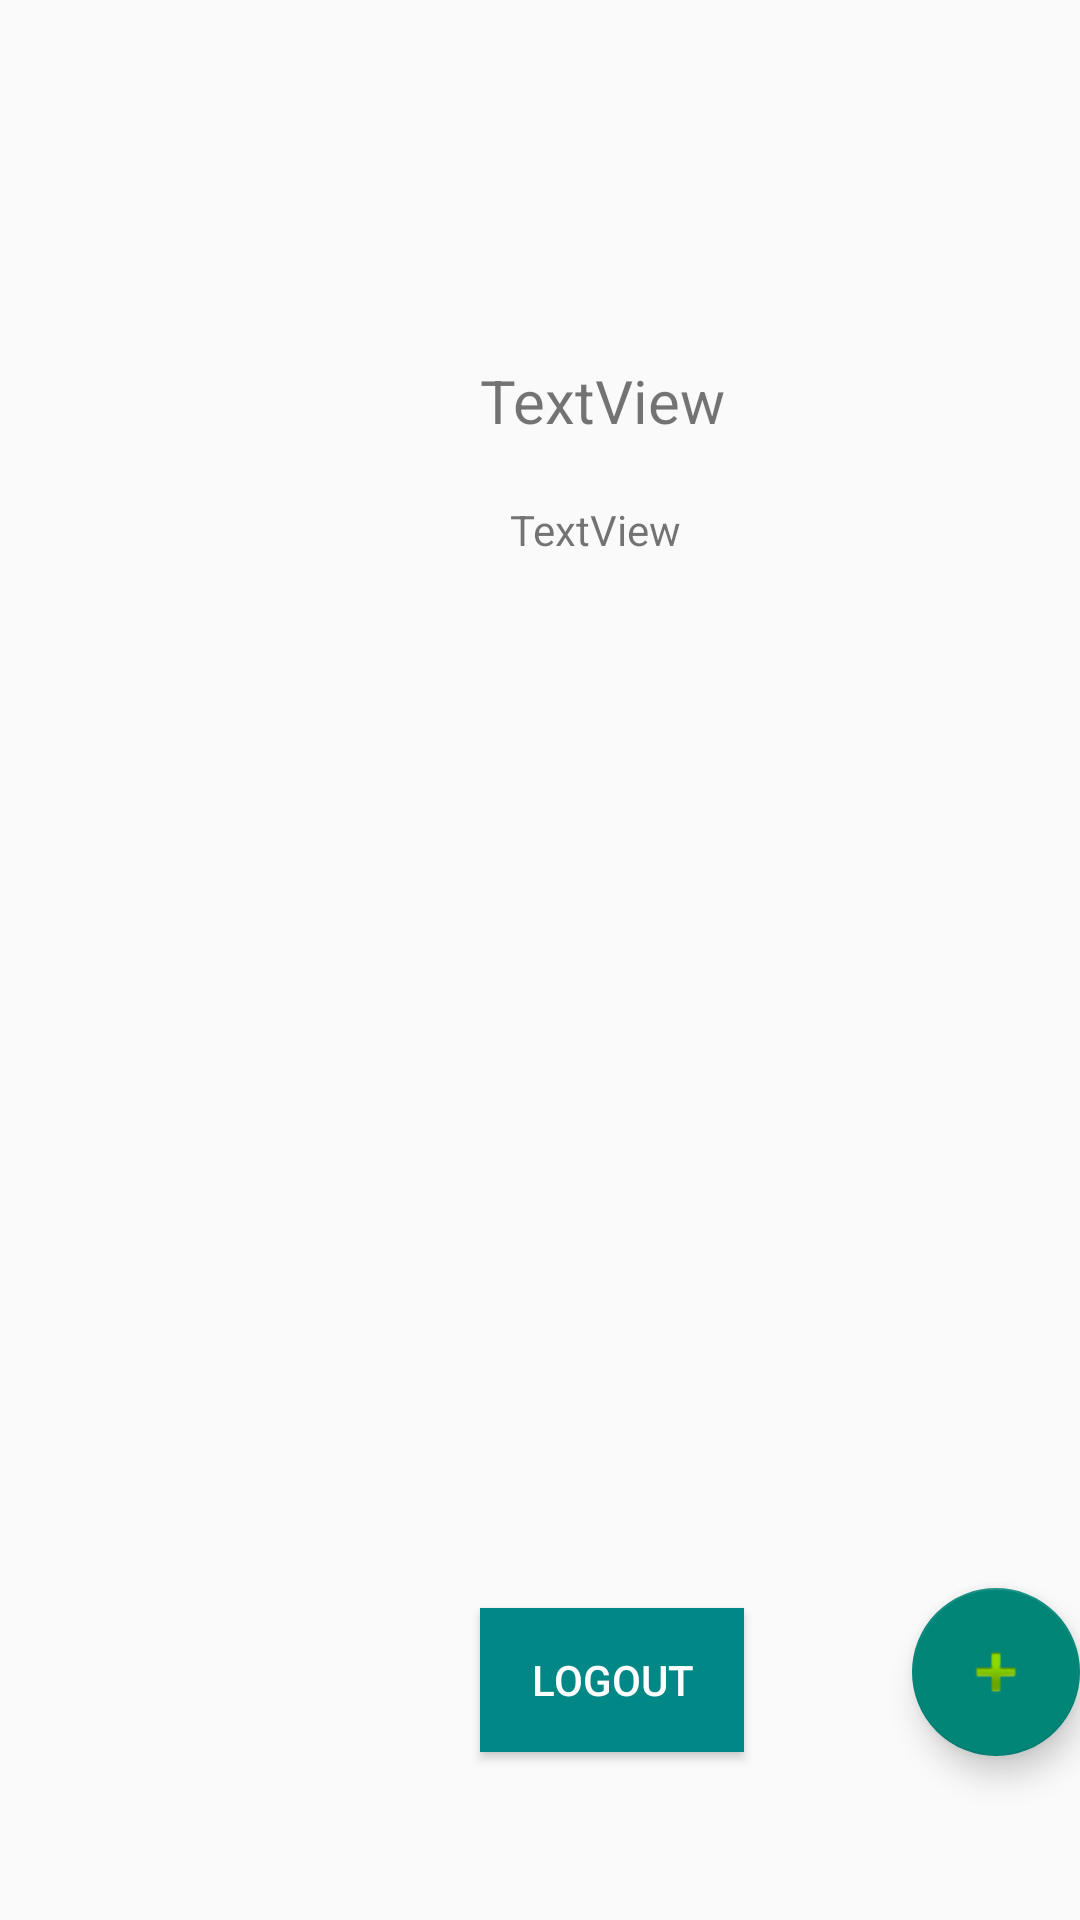

Named icons in this screenshot (1080px x 1920px) and their bounding boxes, (left=x1, top=y1, right=x2, bottom=y2):
add: (left=912, top=1588, right=1080, bottom=1756)
